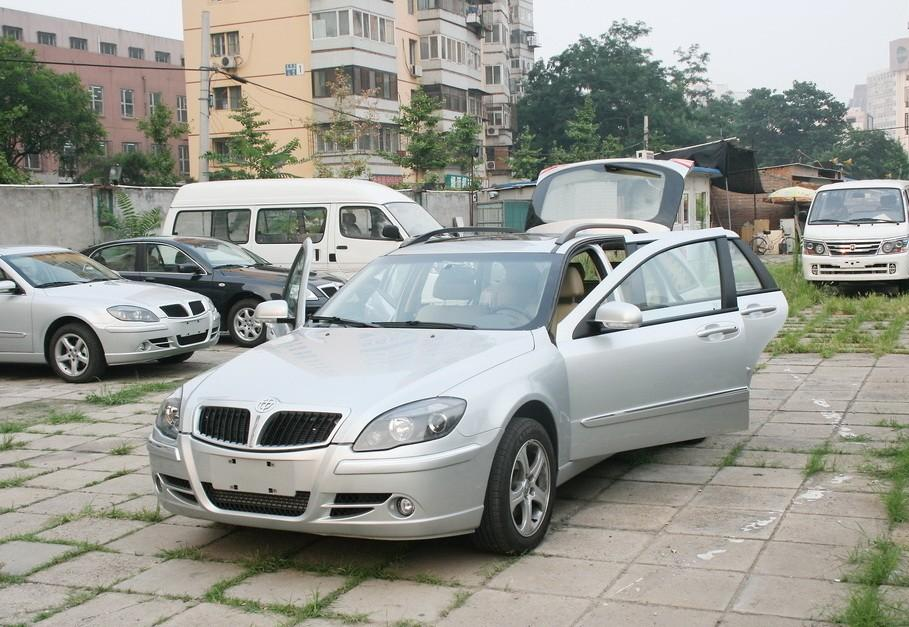Wagon: (147, 158, 790, 557)
